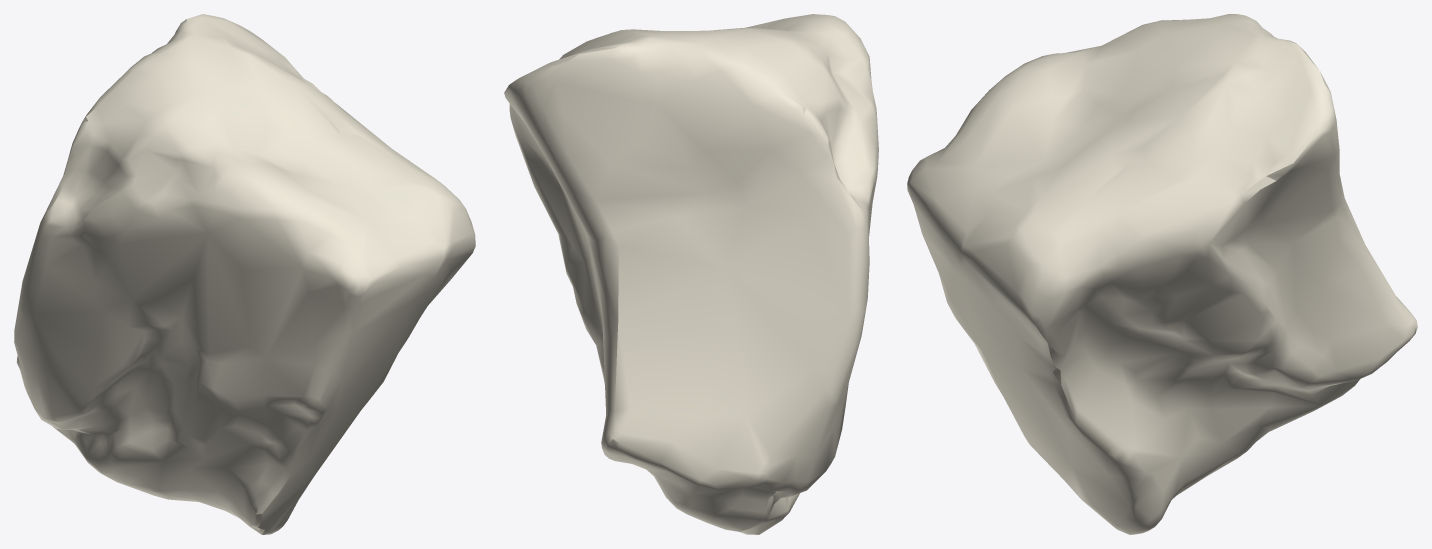
File: fma24524.glb
The picture shows the model from 3 angles, left to right: view 1: azimuth 30°, elevation 25°; view 2: azimuth 150°, elevation 25°; view 3: azimuth 270°, elevation 25°; orthographic projection. The views are drawn at different scales.
Visible parts, largest first — view 1: FMA24524; view 2: FMA24524; view 3: FMA24524.
Part boxes in pixels (x1,y1,x2,y2): FMA24524: [14, 14, 475, 534]; FMA24524: [504, 14, 878, 534]; FMA24524: [907, 14, 1417, 534].
Bounding box in the file's own units: 0.0189 × 0.0233 × 0.0222.
